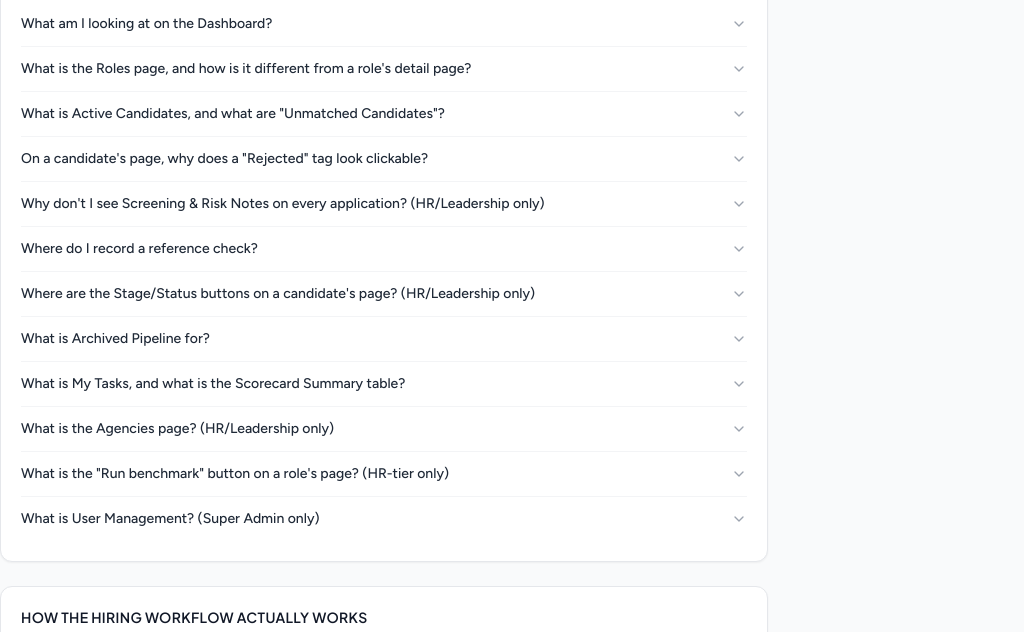
Scenario: Help — answers that were wrong or stale › describes My Tasks as boxes, and Scorecard Summary as the table inside Ready for review
(page scrolled)
Step 1. Click the button "What is My Tasks, and what is the Scorecard Summary table?" → (384, 384), box 21,362 -> 747,406
(page scrolled)
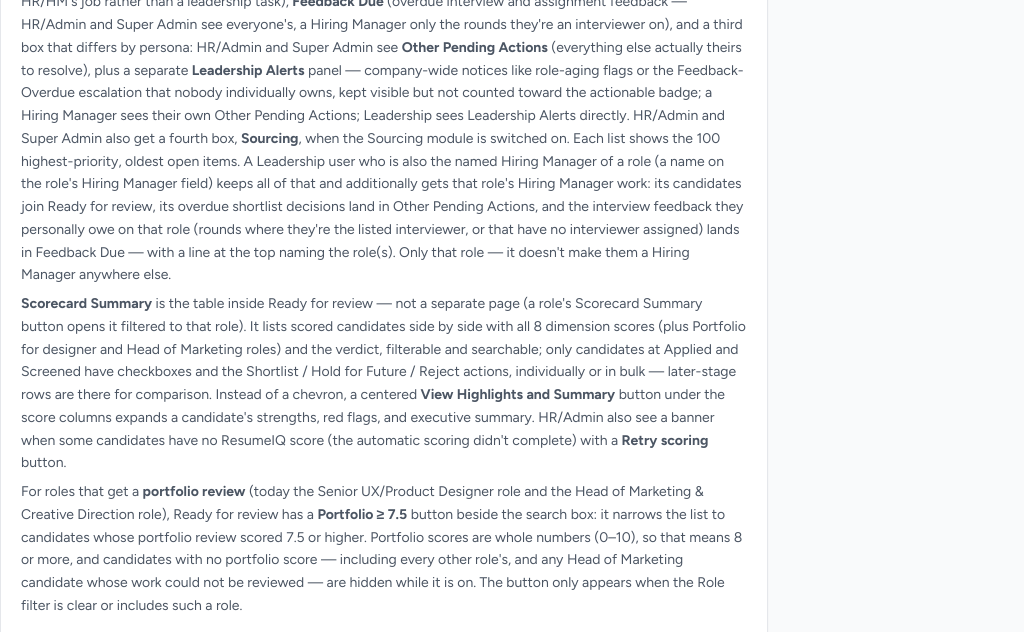
expect the text "not a separate page" is shown: met, box 21,295 -> 746,403
